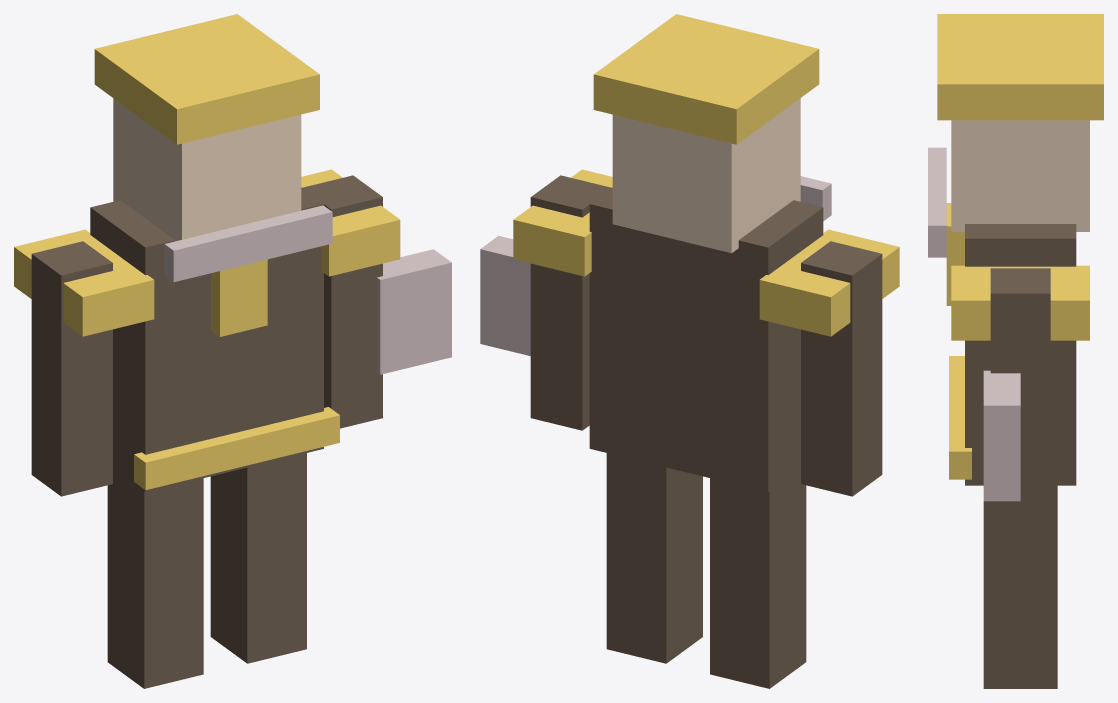
The model's file is 04_nix_rootborne_tamer_under_street.glb.
The picture shows the model from 3 angles, left to right: view 1: azimuth 30°, elevation 25°; view 2: azimuth 150°, elevation 25°; view 3: azimuth 270°, elevation 25°; orthographic projection.
Visible parts, largest first — view 1: Nix Rootborne, Tamer under Street; view 2: Nix Rootborne, Tamer under Street; view 3: Nix Rootborne, Tamer under Street.
Part boxes in pixels (x1,y1,x2,y2): Nix Rootborne, Tamer under Street: [14, 14, 451, 688]; Nix Rootborne, Tamer under Street: [480, 14, 899, 688]; Nix Rootborne, Tamer under Street: [928, 14, 1103, 688].
Size of the model in its own units: 0.9592 by 1.41 by 0.3738.
